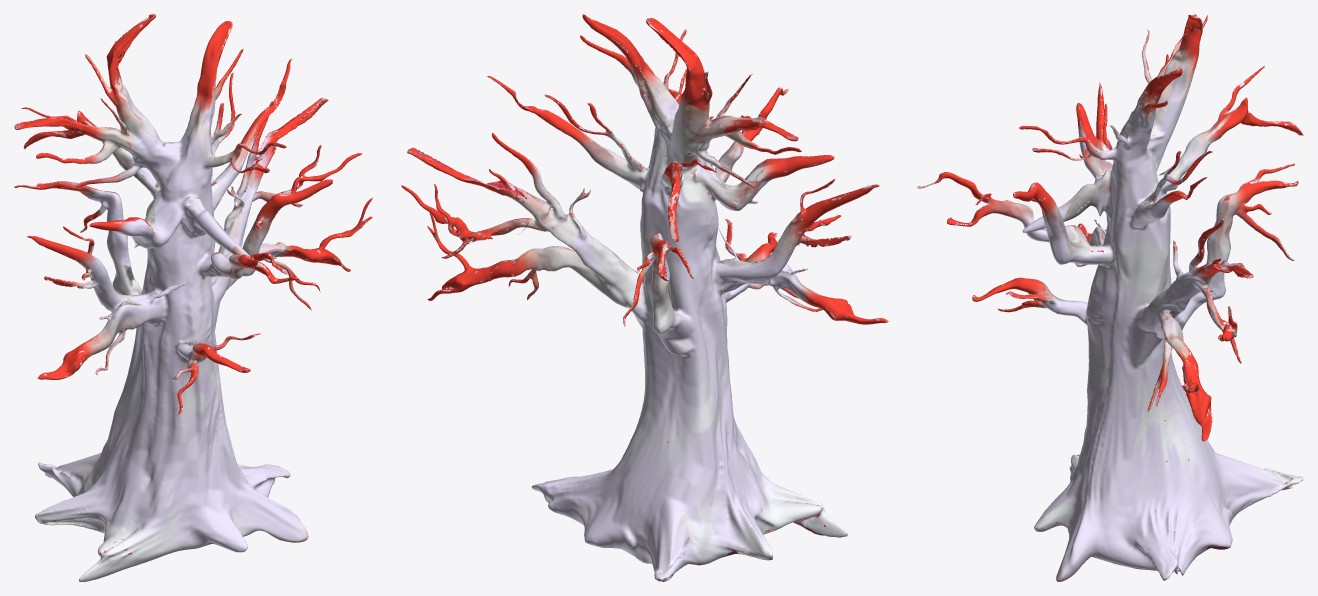
3 views of the same model, side by side, from view 1: azimuth 30°, elevation 25°; view 2: azimuth 150°, elevation 25°; view 3: azimuth 270°, elevation 25° (orthographic). The views are drawn at different scales.
Parts seen in each view (by area): view 1: teste 4 arbre; view 2: teste 4 arbre; view 3: teste 4 arbre.
Boxes of the visible parts, x1,y1,x2,y2 form: teste 4 arbre: (14, 14, 372, 581); teste 4 arbre: (401, 14, 888, 581); teste 4 arbre: (917, 14, 1303, 581).
Bounding box in the file's own units: 4.41 × 5.39 × 3.61.
Materials: 1 (1 with a texture image).
